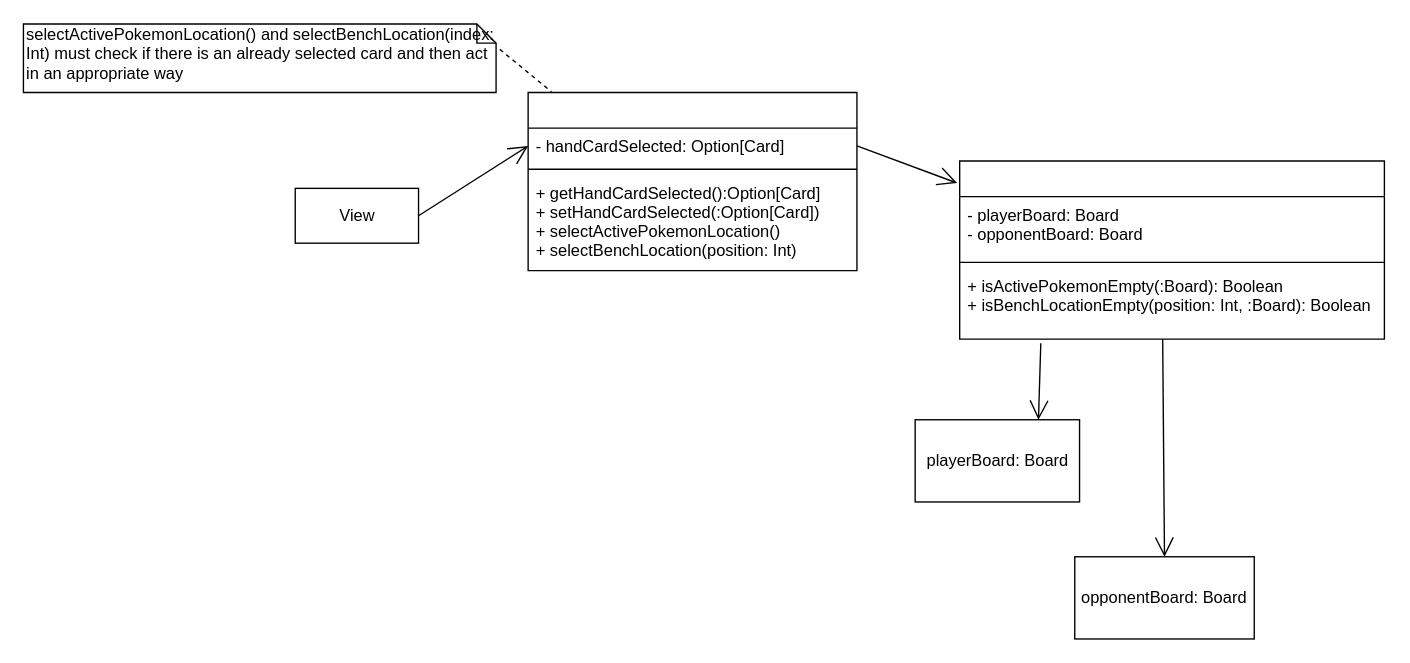
The diagram is 1410 pixels wide and 663 high, and some of its shapes have lost their labels. Here are the shapes that lost their labels. From the top down, the box of each, then its label:
(527, 91, 857, 271): Controller
(958, 160, 1384, 339): GameManager
